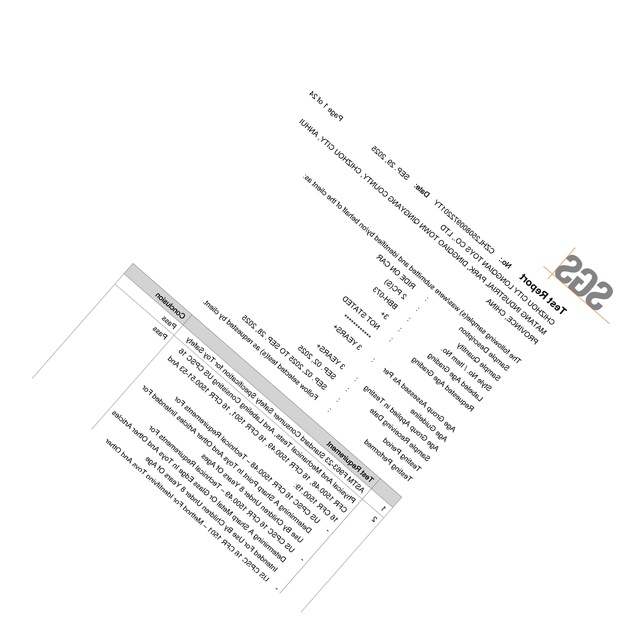sgs: (555, 254, 613, 311)
